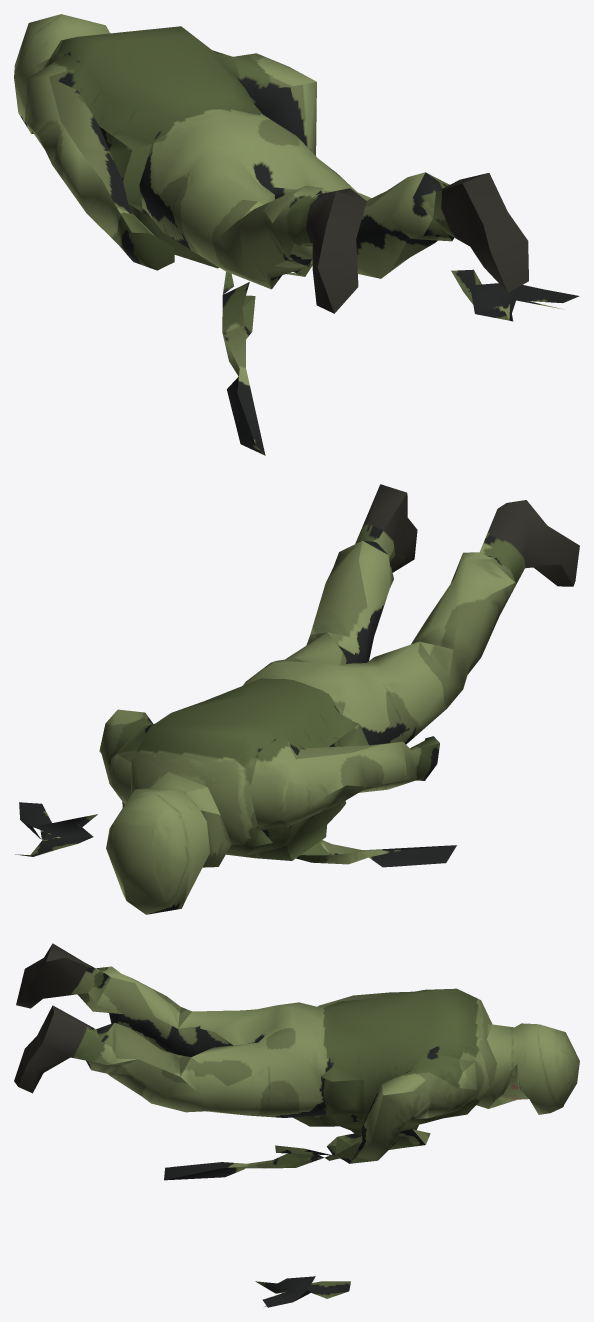
Rendered from rifle_soldier_body_prone.glb.
The picture shows the model from 3 angles, top to bottom: view 1: azimuth 30°, elevation 25°; view 2: azimuth 150°, elevation 25°; view 3: azimuth 270°, elevation 25°; orthographic projection. The views are drawn at different scales.
Parts seen in each view (by area): view 1: rifle_soldier_body_prone; view 2: rifle_soldier_body_prone; view 3: rifle_soldier_body_prone.
Part boxes in pixels (bbox=[...]): rifle_soldier_body_prone: bbox=[14, 14, 579, 455]; rifle_soldier_body_prone: bbox=[15, 484, 579, 914]; rifle_soldier_body_prone: bbox=[14, 943, 579, 1307].
Bounding box in the file's own units: 0.1532 × 0.1035 × 0.2258.
Materials: 1 (1 with a texture image).
